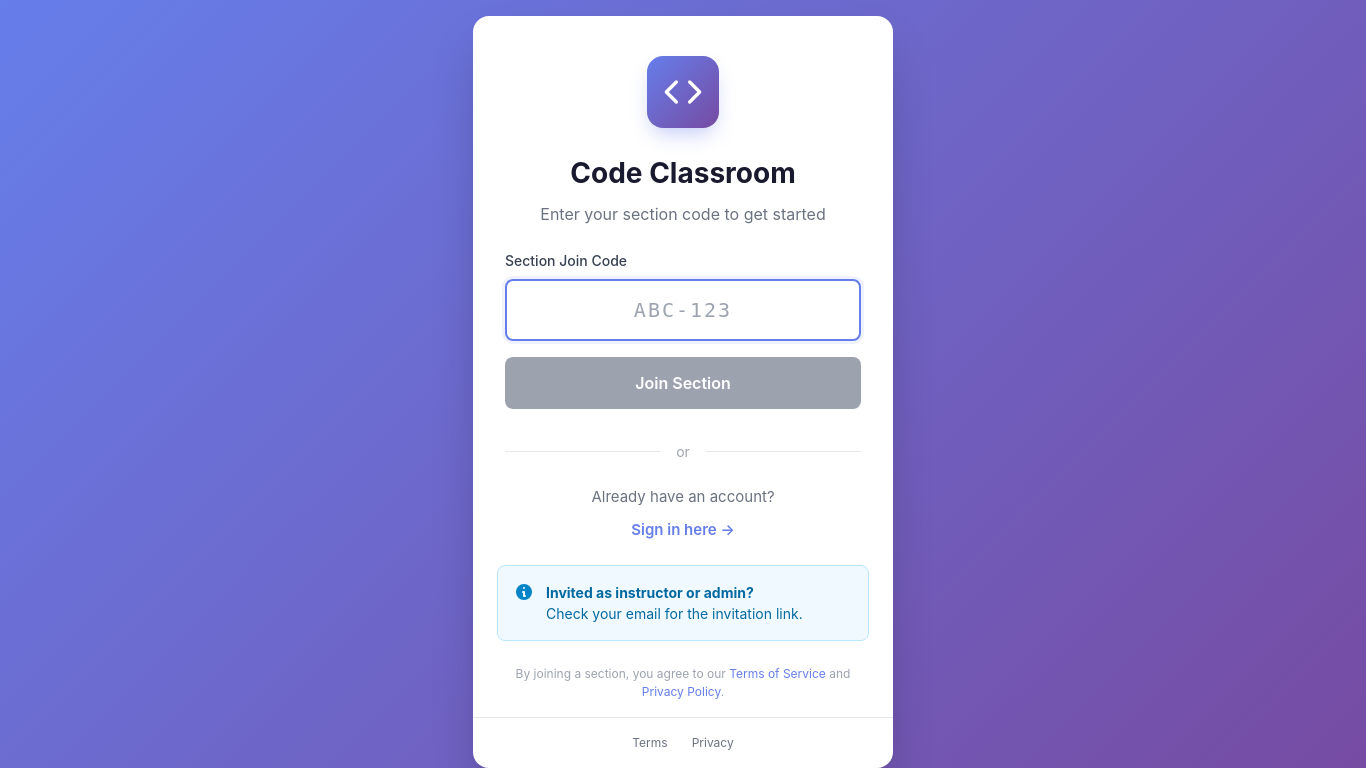
Test: Landing Page › Join Code Input Formatting › auto-formats code with dashes
In the field with placeholder "ABC-123": x=683, y=310 top-left (505, 279), bottom-right (861, 341), type "abc123xyz"
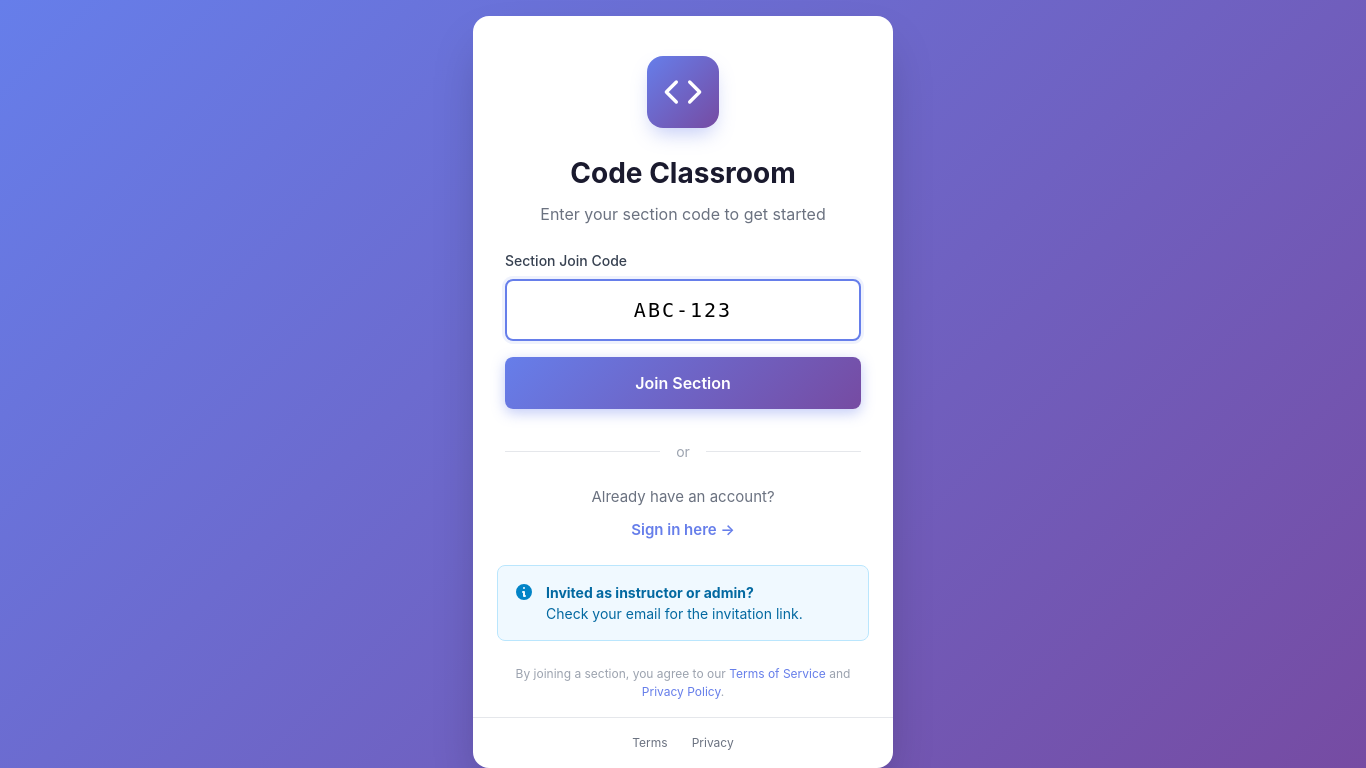
Now the field with placeholder "ABC-123" holds "ABC-123", box top-left (505, 279), bottom-right (861, 341)
